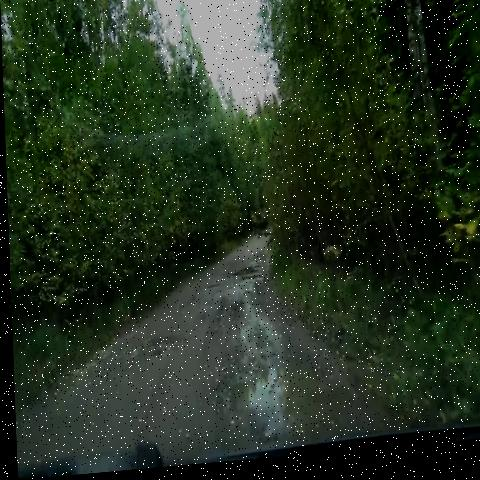pothole: (210, 338, 365, 458), (124, 329, 188, 379), (222, 263, 268, 308), (198, 281, 222, 297)
